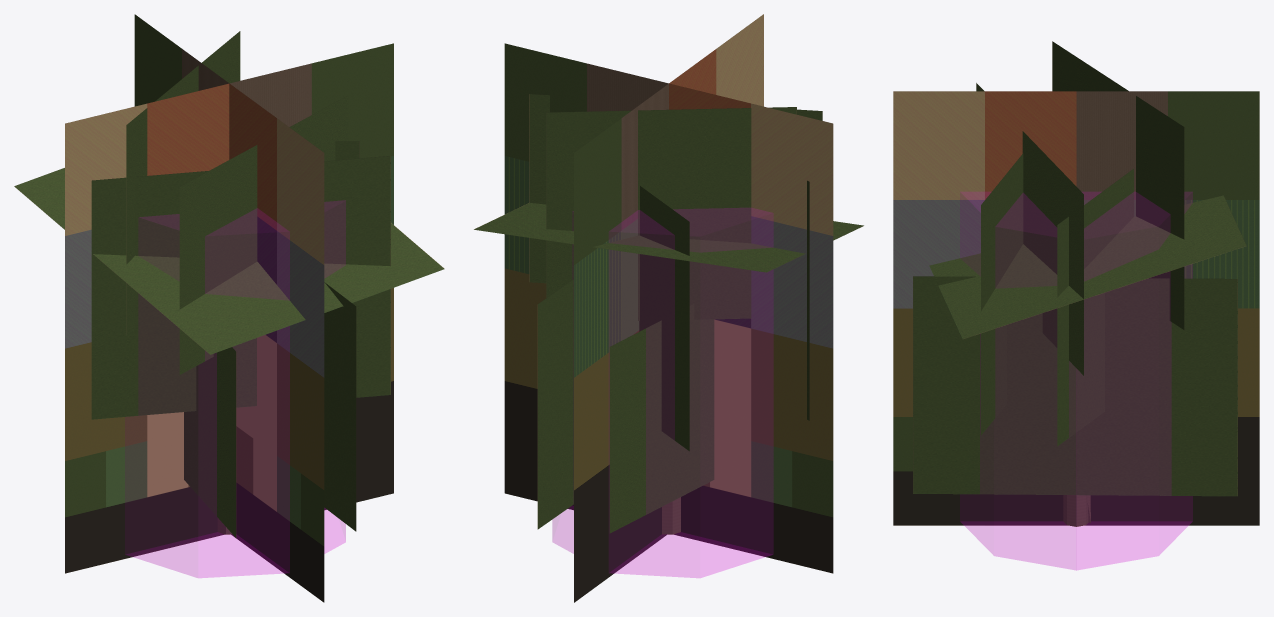
Rendered from creosote_small.dae.
3 renders of one model, left to right at view 1: azimuth 30°, elevation 25°; view 2: azimuth 150°, elevation 25°; view 3: azimuth 270°, elevation 25°, orthographic. The views are drawn at different scales.
Visible parts, largest first — view 1: creosote_small_a50, creosote_small_a800, Colmesh_bush-1, creosote_small_a200; view 2: creosote_small_a50, creosote_small_a800, Colmesh_bush-1, creosote_small_a200; view 3: creosote_small_a800, creosote_small_a50, Colmesh_bush-1, creosote_small_a200.
Boxes of the visible parts, x1,y1,x2,y2 form: creosote_small_a50: (65,14,393,602); creosote_small_a800: (14,31,444,537); Colmesh_bush-1: (125,201,345,577); creosote_small_a200: (91,35,390,537); creosote_small_a50: (504,14,833,602); creosote_small_a800: (474,94,863,534); Colmesh_bush-1: (552,208,772,577); creosote_small_a200: (537,107,809,532); creosote_small_a800: (913,41,1246,526); creosote_small_a50: (893,91,1259,525); Colmesh_bush-1: (960,192,1192,570); creosote_small_a200: (913,43,1237,522).
Size of the model in its own units: 0.7704 by 0.7704 by 1.01.
2 materials, 1 textured.
